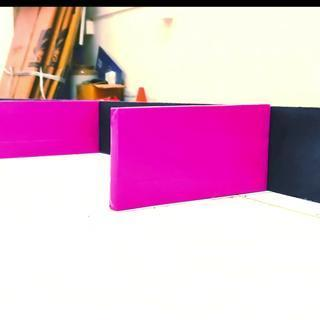xparking: (111, 105, 266, 196), (2, 101, 98, 153)
